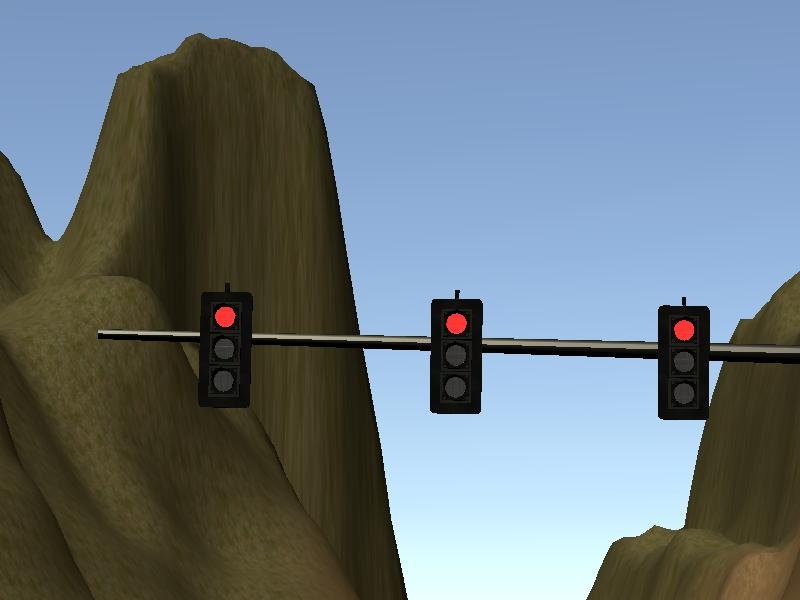red: (195, 291, 258, 407), (425, 299, 488, 415), (647, 304, 710, 420)
